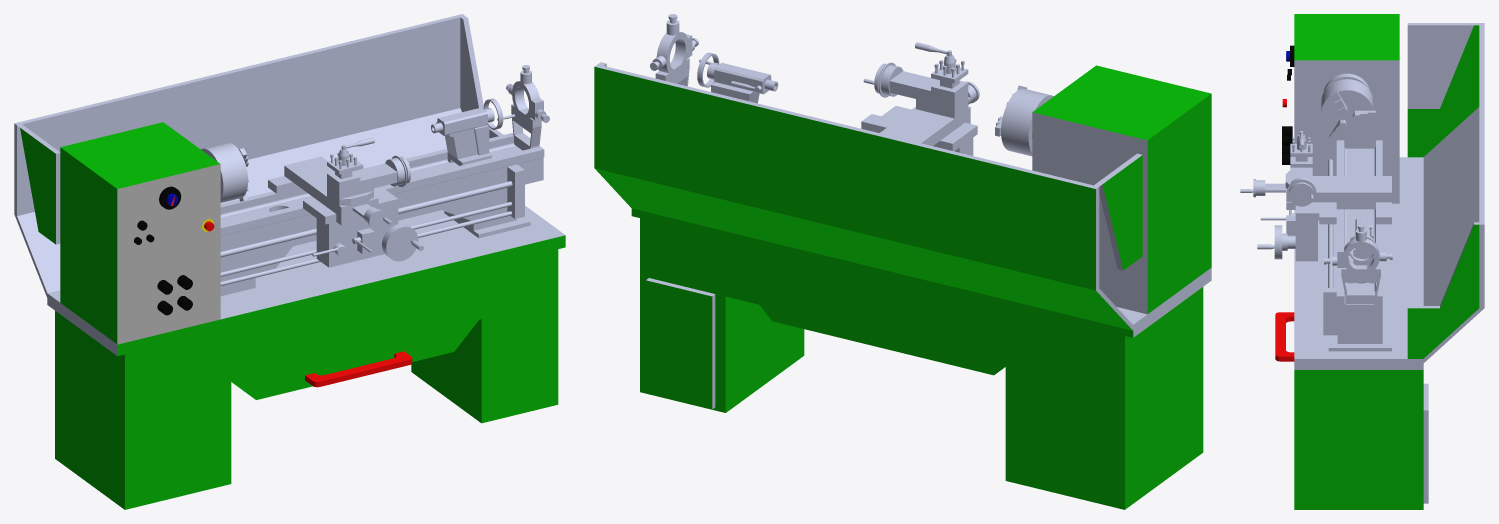
Rendered from lathe.glb.
3 views of the same model, side by side, from view 1: azimuth 30°, elevation 25°; view 2: azimuth 150°, elevation 25°; view 3: azimuth 270°, elevation 25° (orthographic). The views are drawn at different scales.
Parts seen in each view (by area): view 1: 3DGeom~704, 3DGeom~747, 3DGeom~603, 3DGeom~604, 3DGeom~705, Body_37, 3DGeom~728, Body_29, 3DGeom~765, Body_65, Body_63, 3DGeom~758 (+14 smaller); view 2: 3DGeom~704, 3DGeom~746, 3DGeom~604, 3DGeom~605, 3DGeom~736, 3DGeom~728, 3DGeom~765, 3DGeom~747, Body_98, Body_63, Body_60, Body_64 (+5 smaller); view 3: 3DGeom~704, 3DGeom~705, 3DGeom~747, 3DGeom~605, 3DGeom~604, Body_37, 3DGeom~766, 3DGeom~757, Body_117, Body_63, Body_98, Body_64 (+12 smaller).
Part boxes in pixels (x1,y1,x2,y2): 3DGeom~704: [55, 235, 565, 509]; 3DGeom~747: [14, 14, 464, 297]; 3DGeom~603: [117, 164, 220, 344]; 3DGeom~604: [60, 122, 219, 343]; 3DGeom~705: [47, 205, 565, 355]; Body_37: [220, 133, 544, 258]; 3DGeom~728: [231, 320, 478, 399]; Body_29: [220, 189, 525, 281]; 3DGeom~765: [20, 128, 55, 244]; Body_65: [316, 207, 398, 267]; Body_63: [284, 156, 378, 217]; 3DGeom~758: [460, 16, 503, 138]; 3DGeom~704: [631, 208, 1203, 509]; 3DGeom~746: [594, 67, 1132, 330]; 3DGeom~604: [1032, 65, 1211, 313]; 3DGeom~605: [1032, 112, 1147, 314]; 3DGeom~736: [645, 280, 712, 409]; 3DGeom~728: [760, 305, 1005, 375]; 3DGeom~765: [1102, 155, 1142, 270]; 3DGeom~747: [594, 64, 1133, 330]; Body_98: [1001, 88, 1053, 156]; Body_63: [879, 106, 970, 145]; Body_60: [889, 71, 968, 108]; Body_64: [861, 106, 977, 151]; 3DGeom~704: [1294, 370, 1423, 509]; 3DGeom~705: [1294, 157, 1423, 369]; 3DGeom~747: [1423, 23, 1484, 362]; 3DGeom~605: [1294, 60, 1399, 203]; 3DGeom~604: [1294, 14, 1399, 60]; Body_37: [1336, 140, 1382, 324]; 3DGeom~766: [1407, 23, 1473, 108]; 3DGeom~757: [1407, 224, 1479, 358]; Body_117: [1407, 25, 1479, 157]; Body_63: [1286, 176, 1391, 202]; Body_98: [1321, 79, 1373, 137]; Body_64: [1286, 202, 1391, 224].
Size of the model in its own units: 1.82 by 1.25 by 0.9273.
